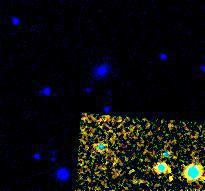star: (158, 163, 188, 191)
